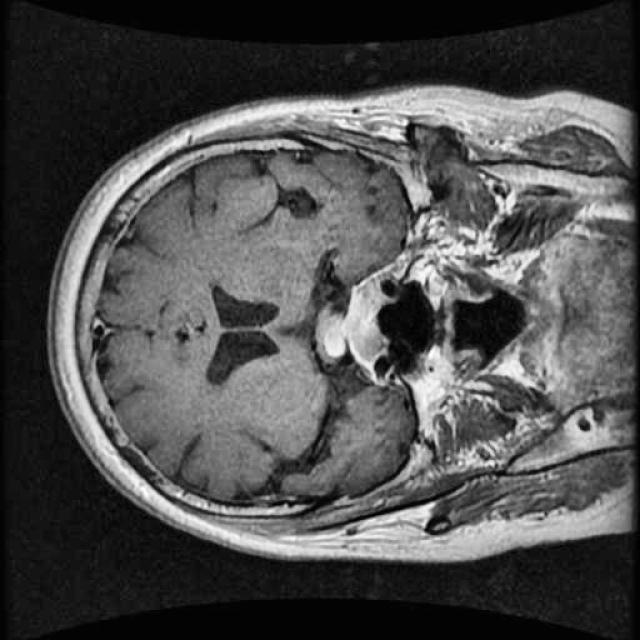Tumor: (305, 265, 404, 378)
